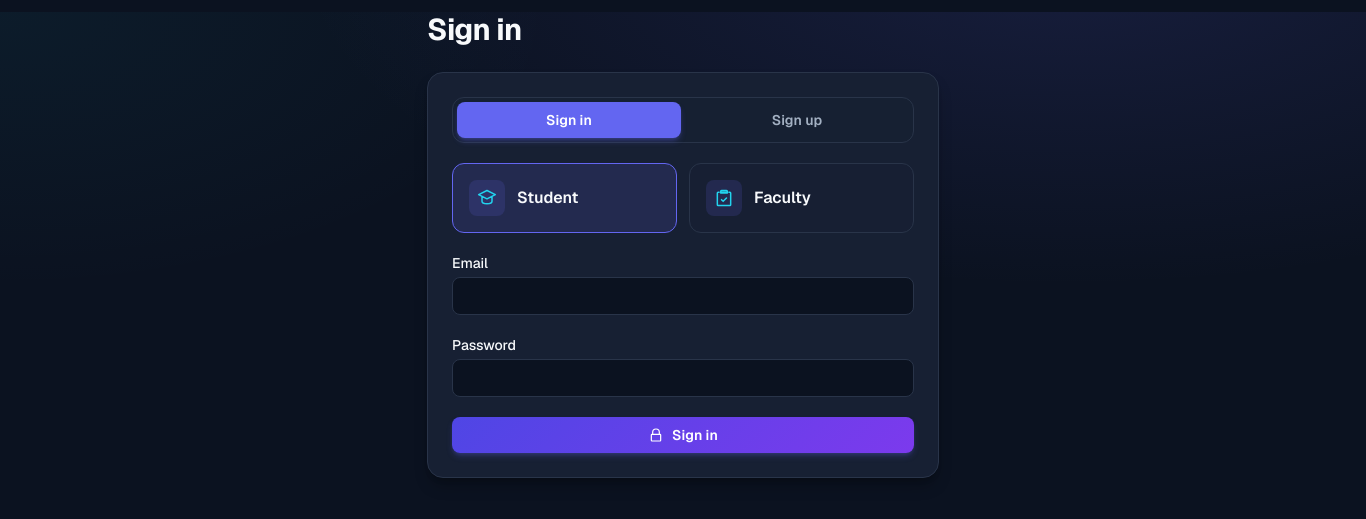
Scenario: Sign in › shows the server's message next to the field and stays on the page
The image size is (1366, 519).
Type "asha.fictional@gmail.com" into the field labelled "Email" at (683, 296), box 452,277 -> 914,315
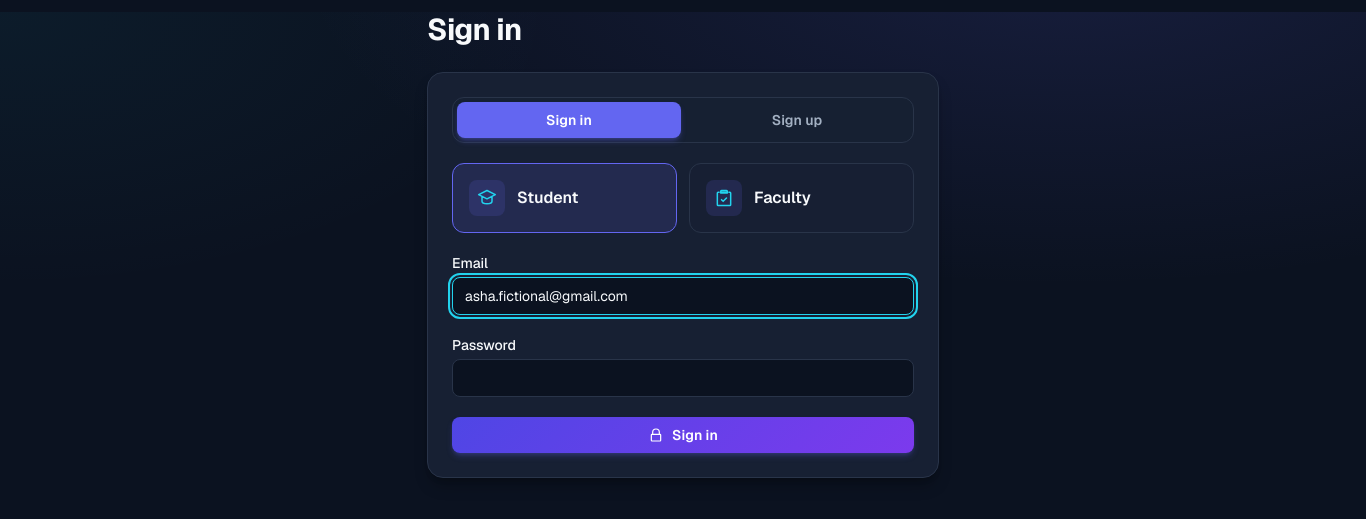
Type "nope" into the password field labelled "Password" at (683, 378), box 452,359 -> 914,397
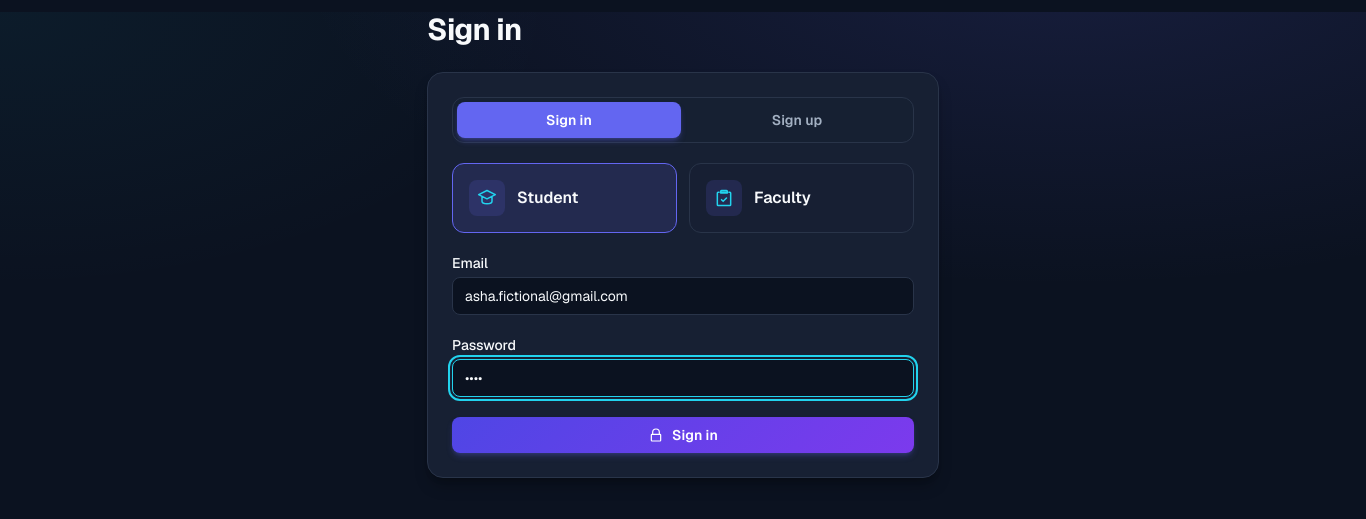
Click the button "Sign in" at (683, 435), box 452,417 -> 914,453
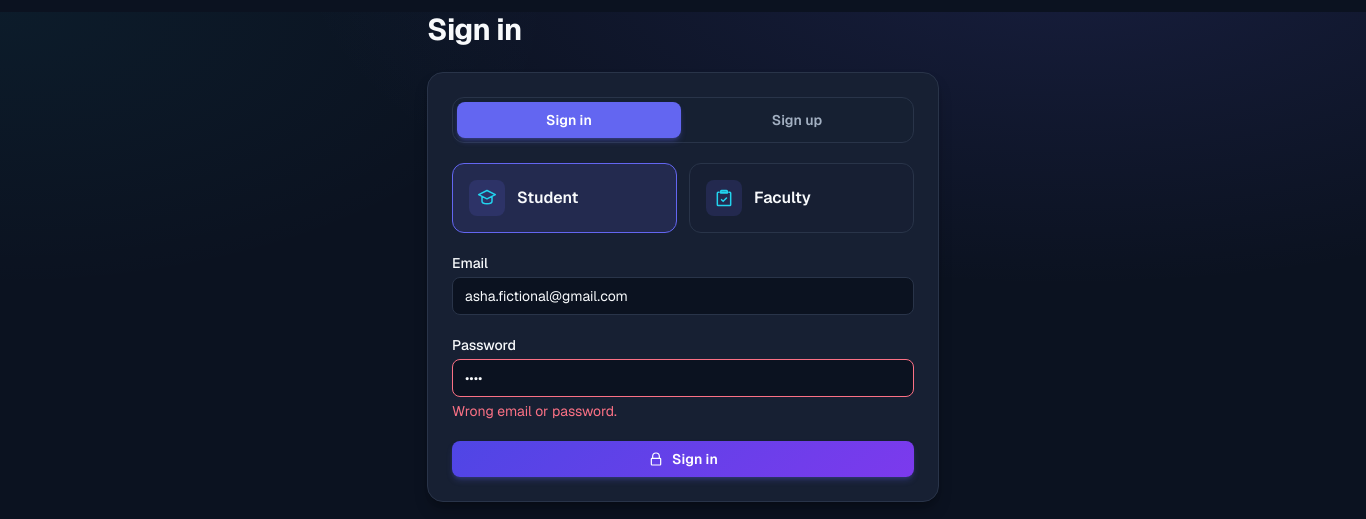
Check: the button "Sign in" is enabled, box 452,441 -> 914,477
Check: the message reads "Wrong email or password.", box 452,402 -> 617,420
